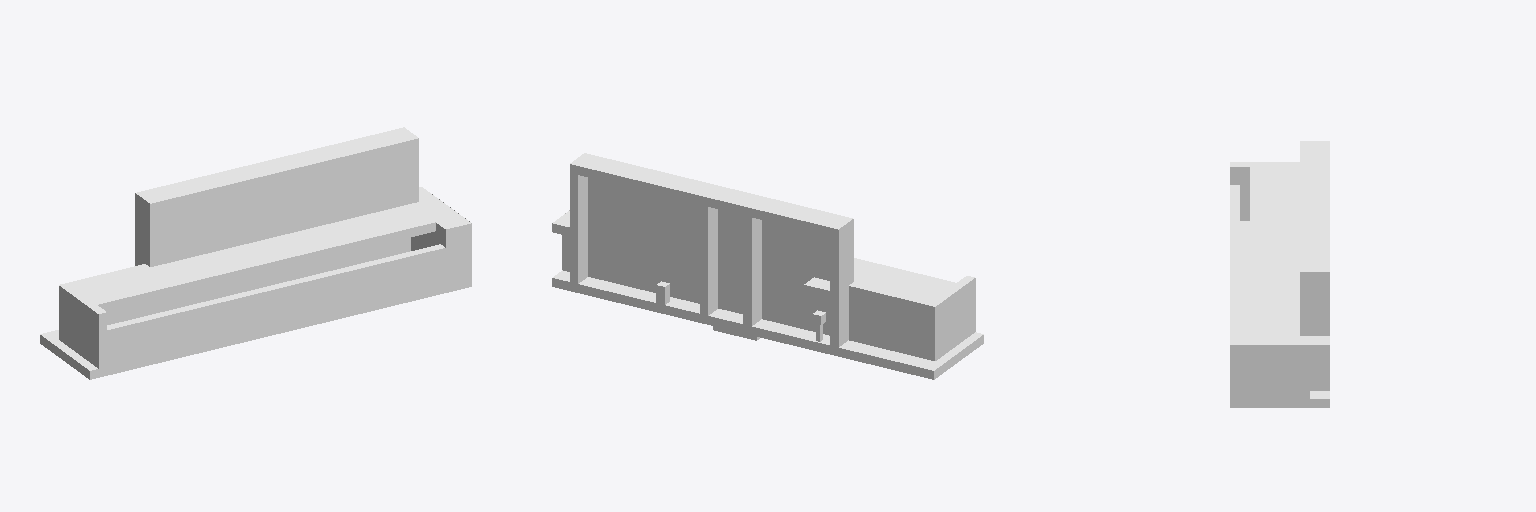
Rendered from go_ciel_laine_tri.obj.
The picture shows the model from 3 angles: view 1: azimuth 30°, elevation 25°; view 2: azimuth 150°, elevation 25°; view 3: azimuth 270°, elevation 25°; orthographic projection.
Visible parts, largest first — view 1: __RTX___Test_Map_2_0__166_0_-205_to_209_319_-195; view 2: __RTX___Test_Map_2_0__166_0_-205_to_209_319_-195; view 3: __RTX___Test_Map_2_0__166_0_-205_to_209_319_-195.
Part boxes in pixels (x1,y1,x2,y2): __RTX___Test_Map_2_0__166_0_-205_to_209_319_-195: (40,127,471,379); __RTX___Test_Map_2_0__166_0_-205_to_209_319_-195: (552,153,983,379); __RTX___Test_Map_2_0__166_0_-205_to_209_319_-195: (1230,141,1329,407).
Size of the model in its own units: 66.07 by 22.5 by 15.